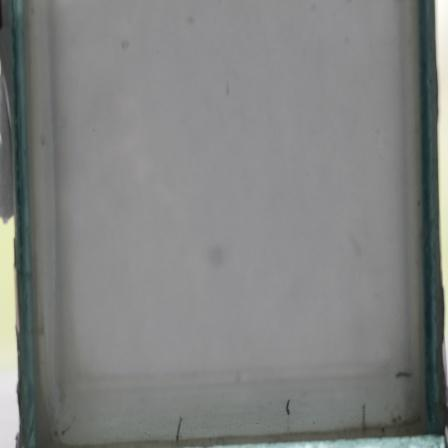Jentik-Nyamuk: (172, 412, 187, 444), (390, 368, 416, 383), (358, 402, 370, 432), (282, 395, 295, 418)
